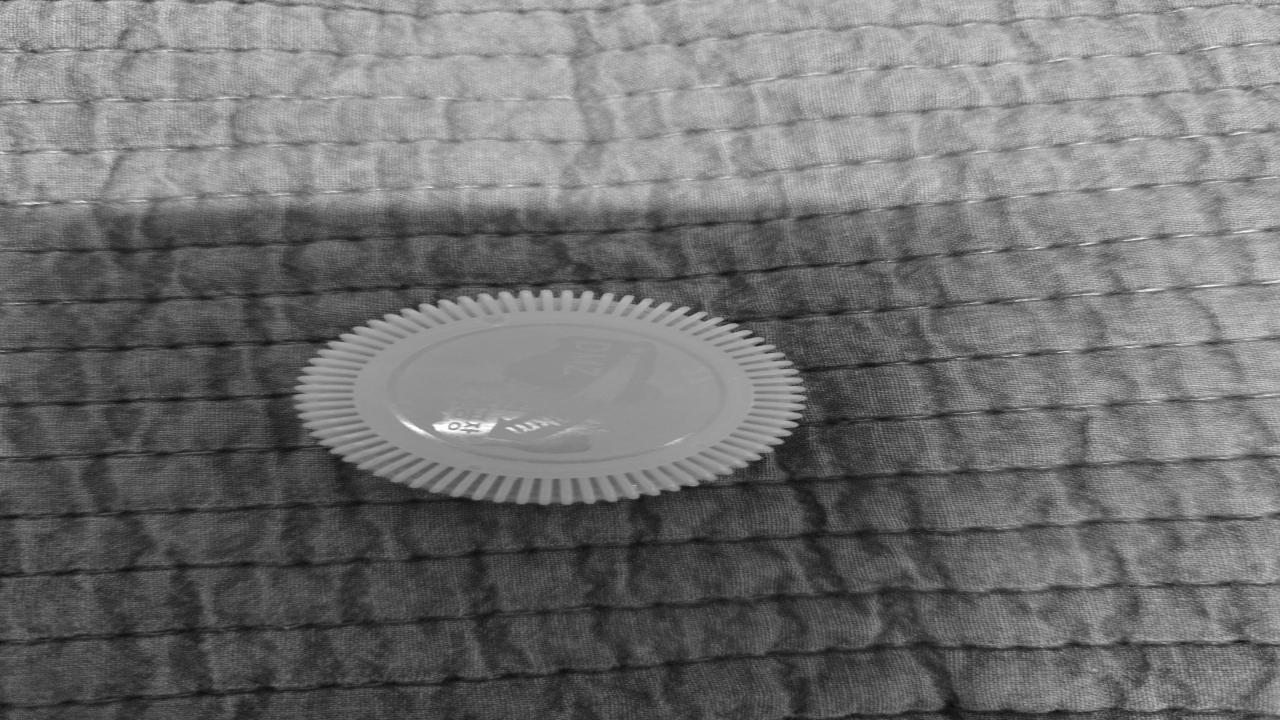bottle_cap: (305, 295, 792, 501)
